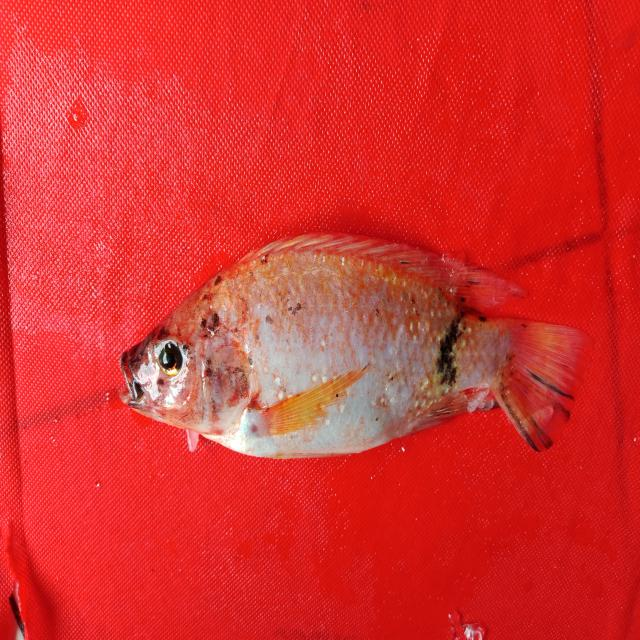ikan: (117, 229, 591, 461)
